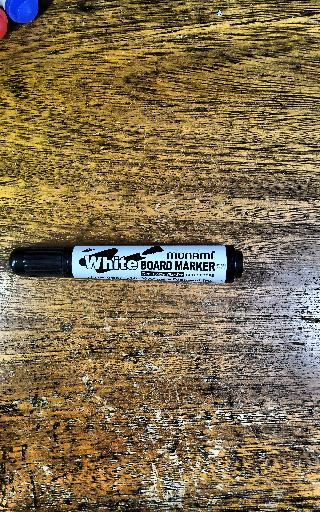marcador negro: (9, 244, 243, 283)
